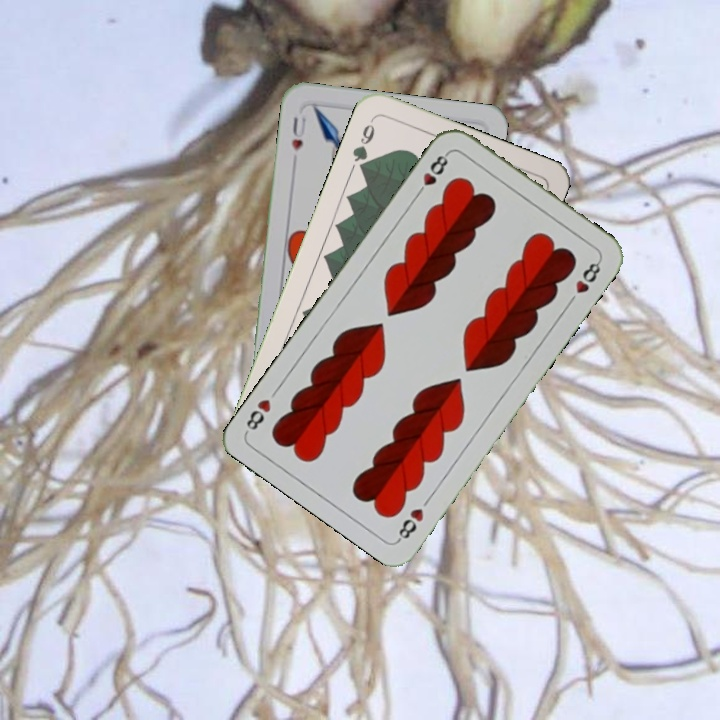G9: (348, 115, 378, 175)
H8: (412, 148, 452, 200), (393, 504, 427, 544)
HU: (288, 113, 309, 153)
